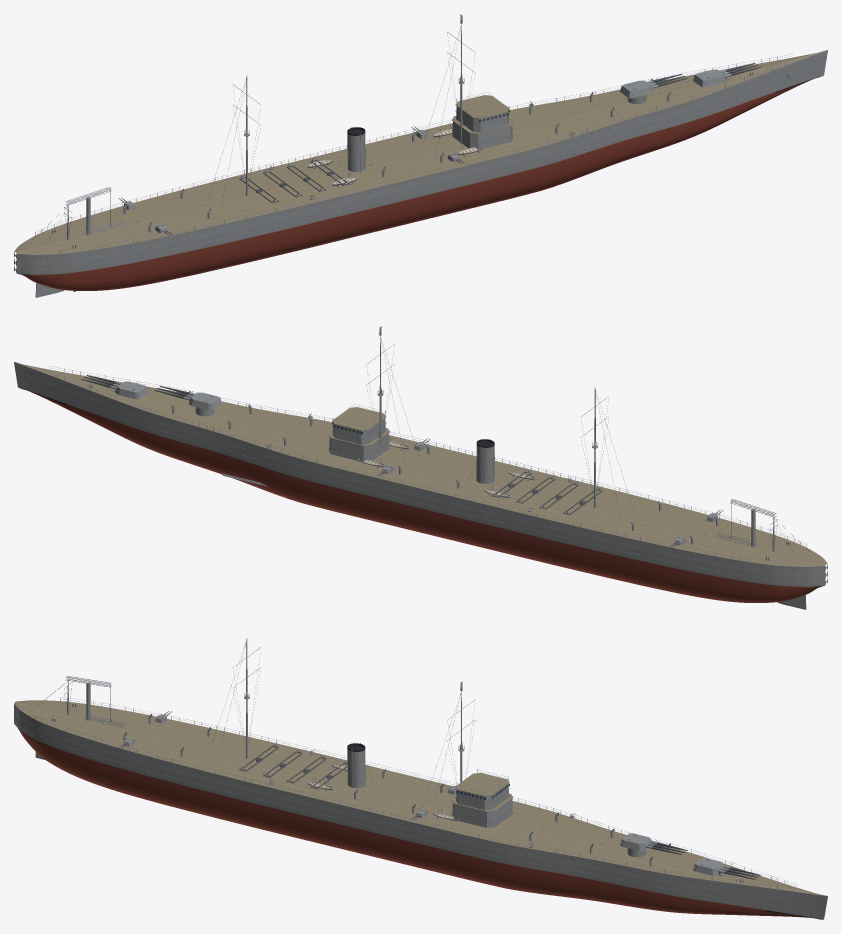
The model's file is seeadler_raider.glb.
The picture shows the model from 3 angles, top to bottom: view 1: azimuth 30°, elevation 25°; view 2: azimuth 150°, elevation 25°; view 3: azimuth 330°, elevation 25°; orthographic projection.
Visible parts, largest first — view 1: Seeadler class; view 2: Seeadler class; view 3: Seeadler class.
Part boxes in pixels (x1,y1,x2,y2): Seeadler class: (14, 14, 827, 297); Seeadler class: (14, 326, 827, 609); Seeadler class: (14, 638, 827, 919).
Size of the model in its own units: 224 by 47.89 by 24.4.
Materials: 8 (2 with a texture image).
